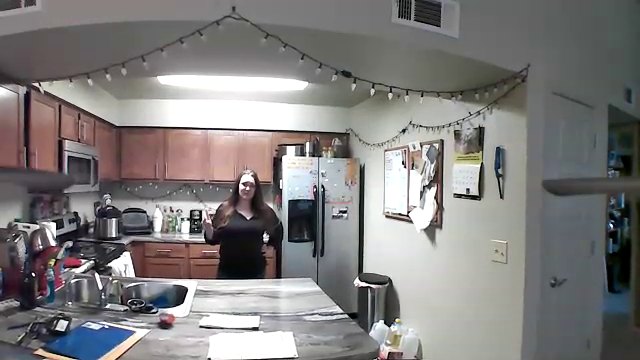up: (198, 205, 219, 234)
